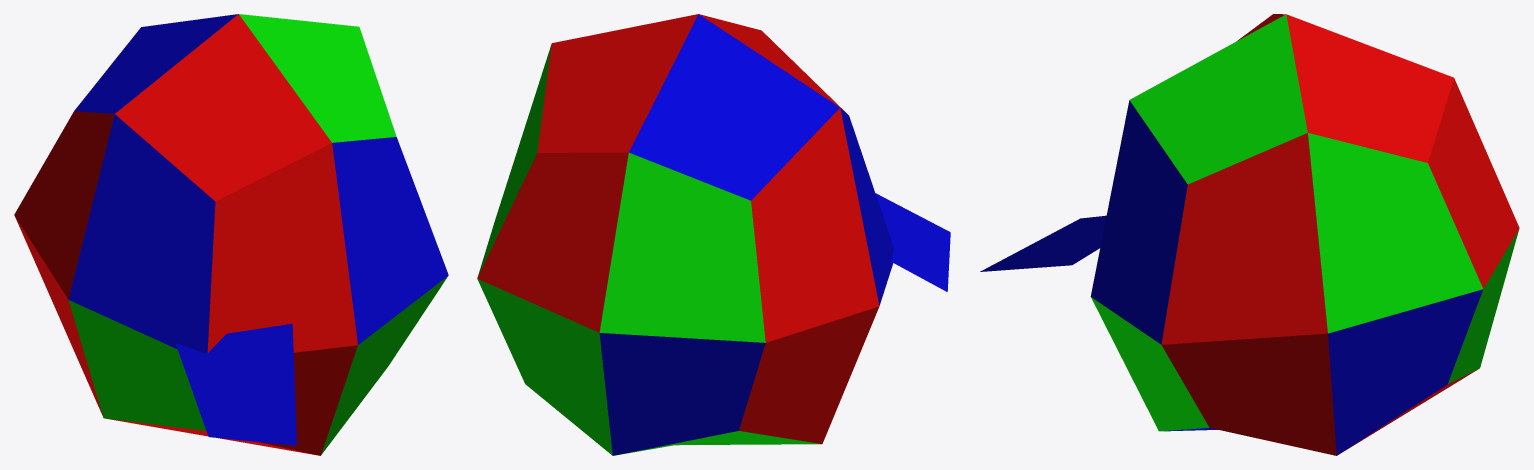
The model's file is Bush_C_01.fbx.
The picture shows the model from 3 angles, left to right: view 1: azimuth 30°, elevation 25°; view 2: azimuth 150°, elevation 25°; view 3: azimuth 270°, elevation 25°; orthographic projection. The views are drawn at different scales.
Parts seen in each view (by area): view 1: Bush_C_01; view 2: Bush_C_01; view 3: Bush_C_01.
Boxes of the visible parts, bbox=[...] form: Bush_C_01: bbox=[14, 14, 448, 455]; Bush_C_01: bbox=[477, 14, 950, 455]; Bush_C_01: bbox=[980, 14, 1519, 455].
Size of the model in its own units: 0.8095 by 0.8954 by 1.07.
